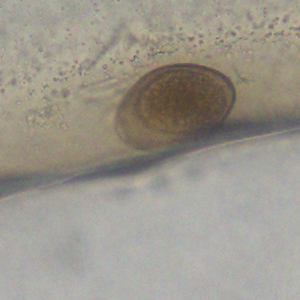Fasciola_hepatica_egg: (112, 62, 237, 153)
